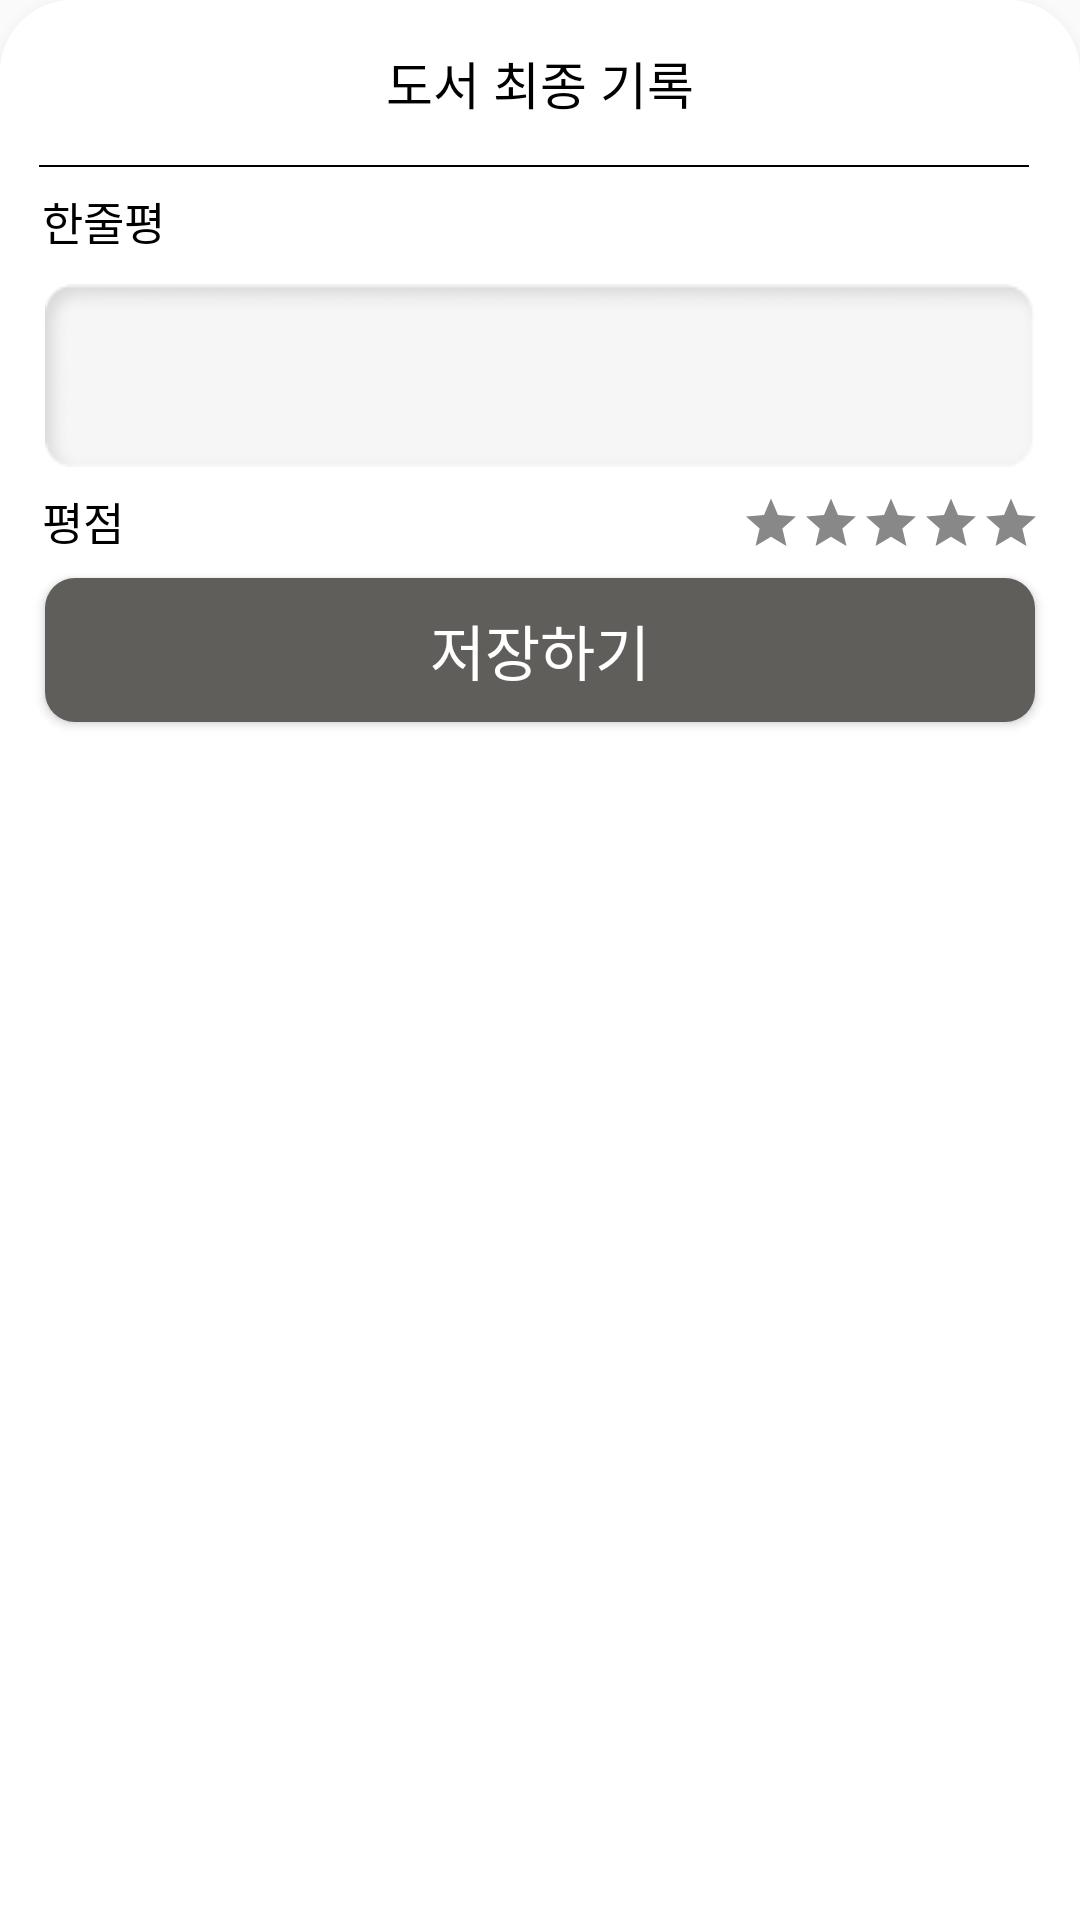

Icon bounding boxes for this 1080px×1920px phone screenshot, format (x1,y1,x2,y2):
star: (746,499,796,546), (806,499,856,546), (866,499,916,546), (926,499,976,546), (986,499,1036,546)
